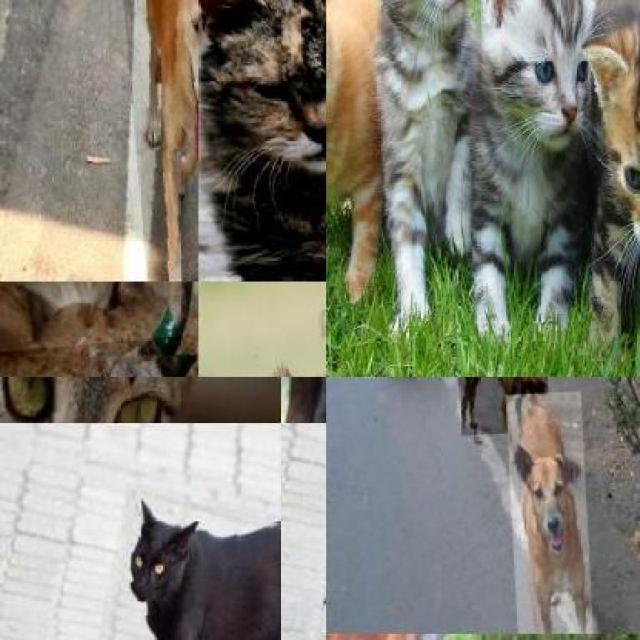cat: (199, 0, 326, 282), (74, 489, 280, 640), (498, 0, 602, 169), (366, 0, 481, 92), (600, 16, 640, 272), (326, 0, 364, 235)
dog: (103, 0, 199, 282), (504, 391, 594, 634), (451, 377, 549, 435)
